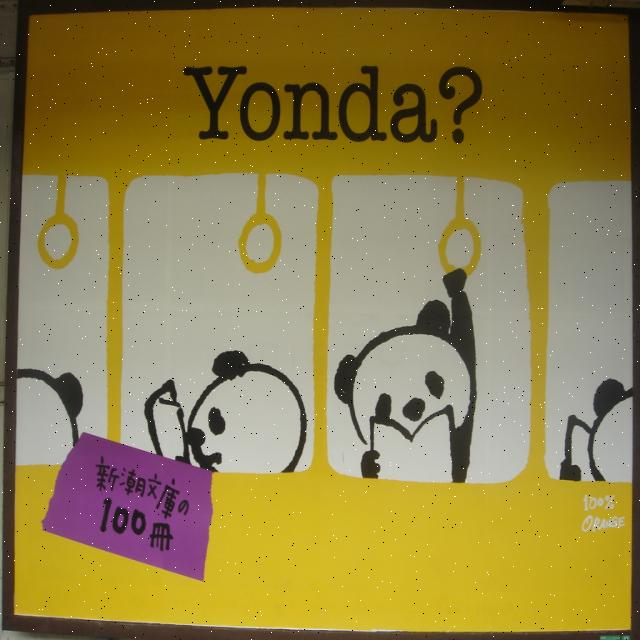panda: (335, 263, 480, 481), (188, 346, 304, 474), (560, 377, 636, 481), (17, 365, 86, 450)
